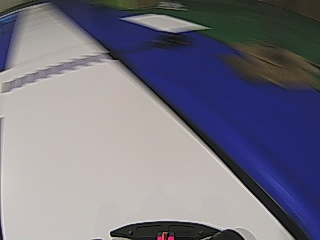CrossWalk: (2, 47, 116, 97)
